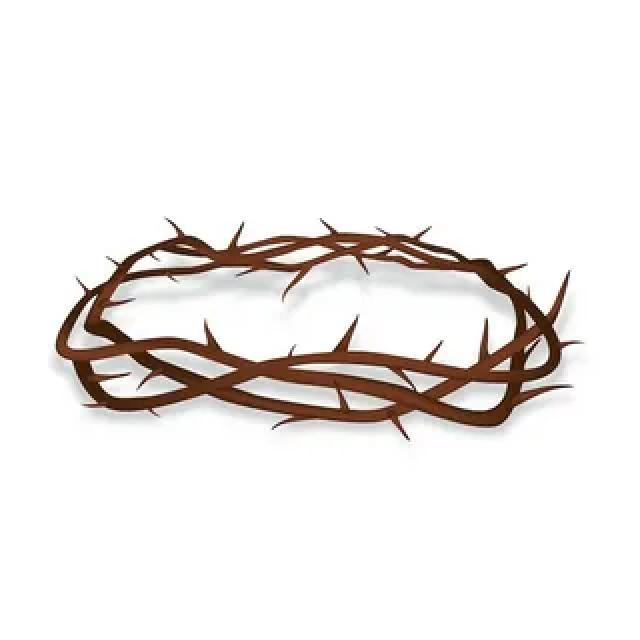crown: (54, 200, 578, 456)
